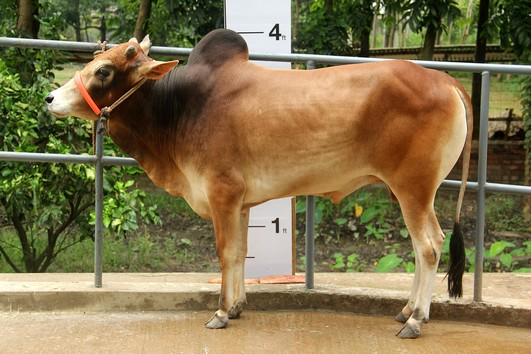cow: (41, 27, 477, 341)
